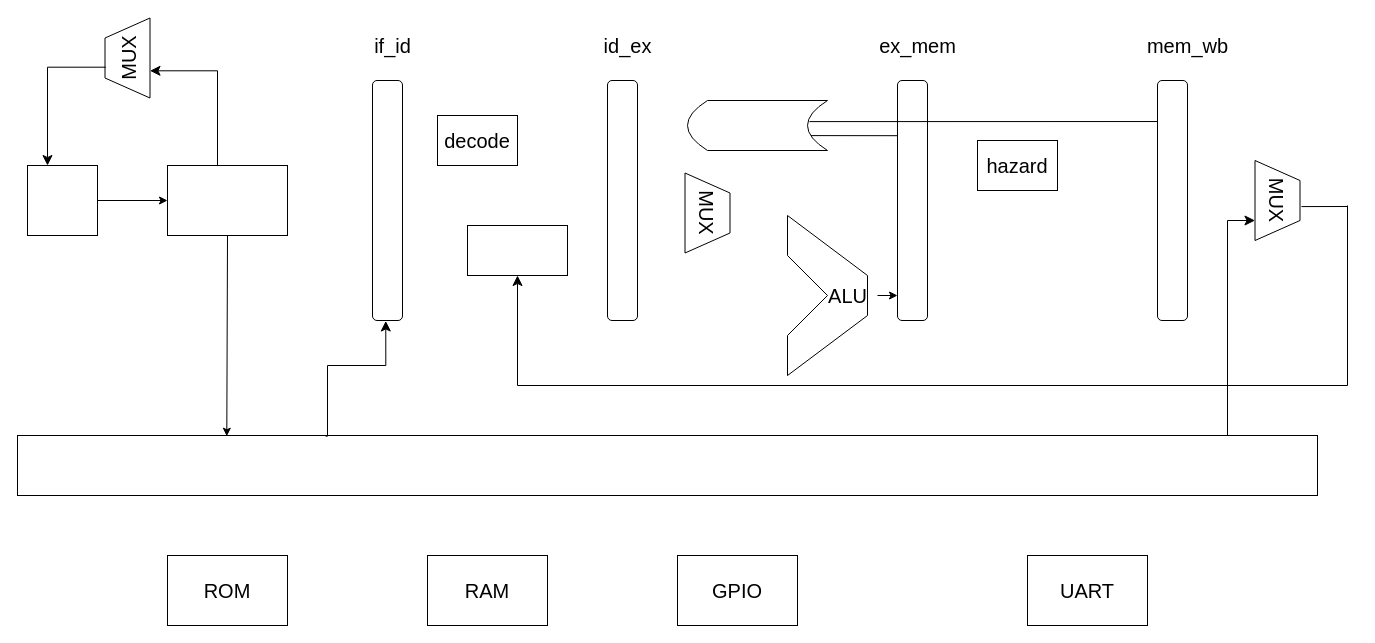
Image size: 1375x643. Some labels were removed from this diagram. Here are the shapes that lost their labels. From the top down, the centre of each, then its label:
At [757,125]: "forwarding".
At [62,200]: "PC".
At [227,200]: "pre_if".
At [517,250]: "Registers".
At [667,465]: "System Bus".
